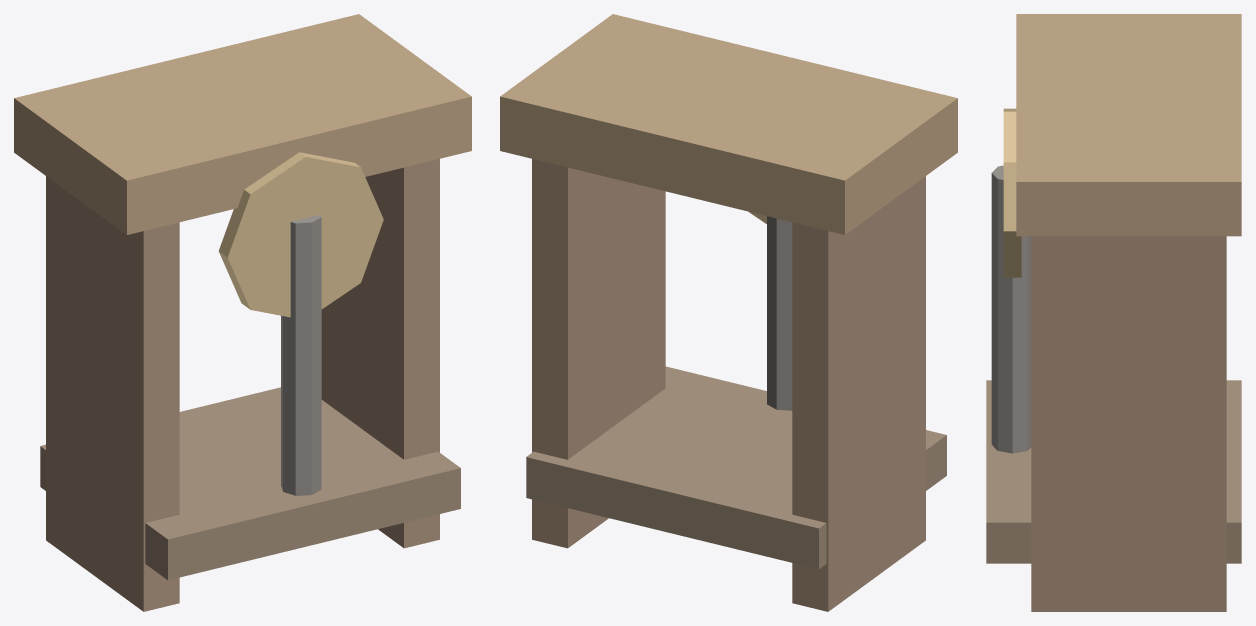
The model's file is vineyard_press_far-BoZsDtHf.glb.
3 views of the same model, side by side, from view 1: azimuth 30°, elevation 25°; view 2: azimuth 150°, elevation 25°; view 3: azimuth 270°, elevation 25° (orthographic).
Visible parts, largest first — view 1: vineyard_press_far; view 2: vineyard_press_far; view 3: vineyard_press_far.
Part boxes in pixels (left/top/right/bottom): vineyard_press_far: left=14, top=14, right=471, bottom=611; vineyard_press_far: left=500, top=14, right=957, bottom=611; vineyard_press_far: left=986, top=14, right=1241, bottom=611.
Size of the model in its own units: 5.3 by 6.5 by 3.4.
